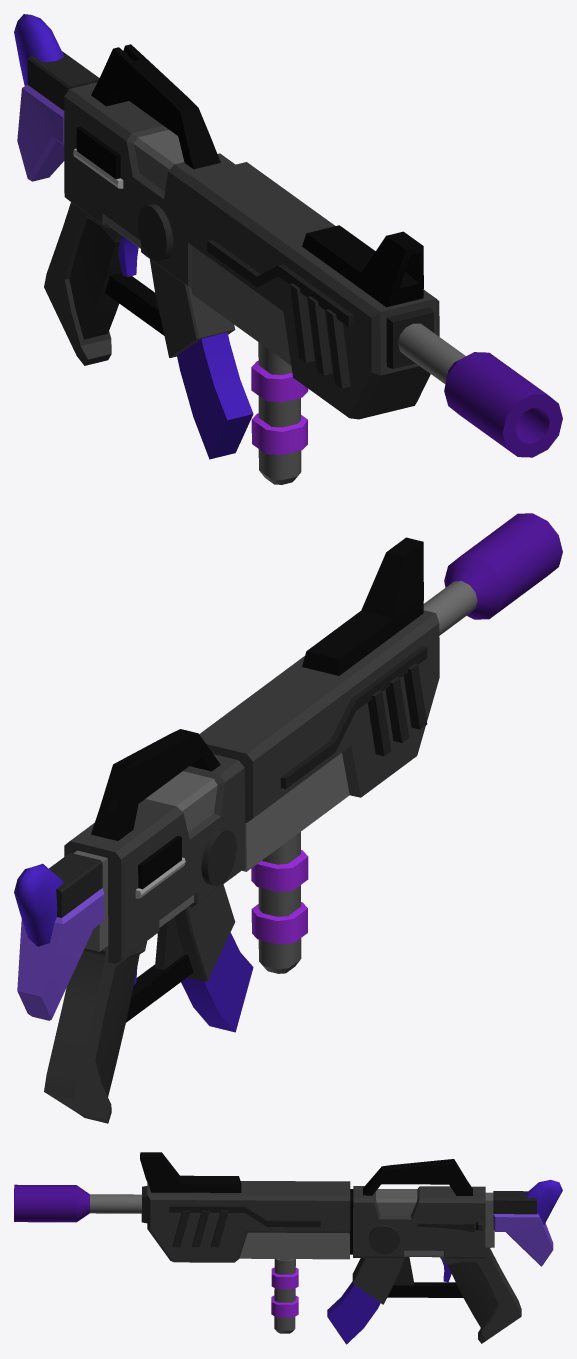
Rendered from AssaultRifle.fbx.
The picture shows the model from 3 angles, top to bottom: view 1: azimuth 30°, elevation 25°; view 2: azimuth 150°, elevation 25°; view 3: azimuth 270°, elevation 25°; orthographic projection. The views are drawn at different scales.
Parts seen in each view (by area): view 1: AssaultRifle; view 2: AssaultRifle; view 3: AssaultRifle.
Part boxes in pixels (x1,y1,x2,y2): AssaultRifle: [14, 14, 562, 484]; AssaultRifle: [14, 513, 562, 1123]; AssaultRifle: [14, 1152, 562, 1344].
Bounding box in the file's own units: 11.95 × 124 × 46.76.
Materials: 1 (1 with a texture image).
